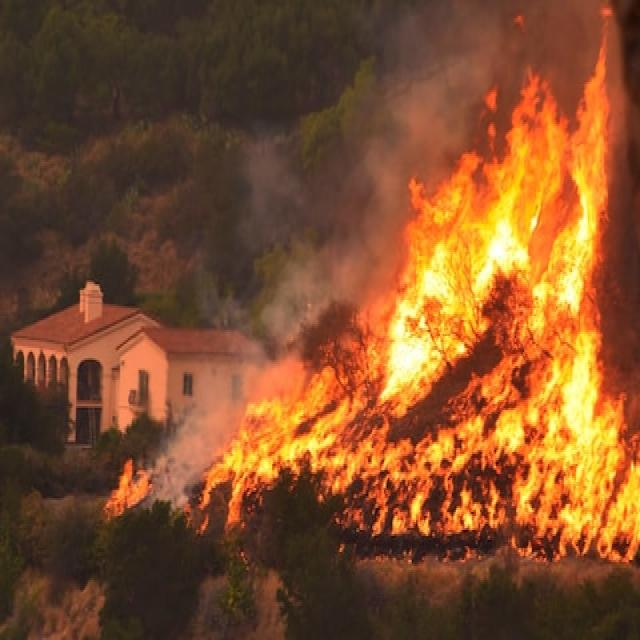fire: (436, 180, 614, 539)
